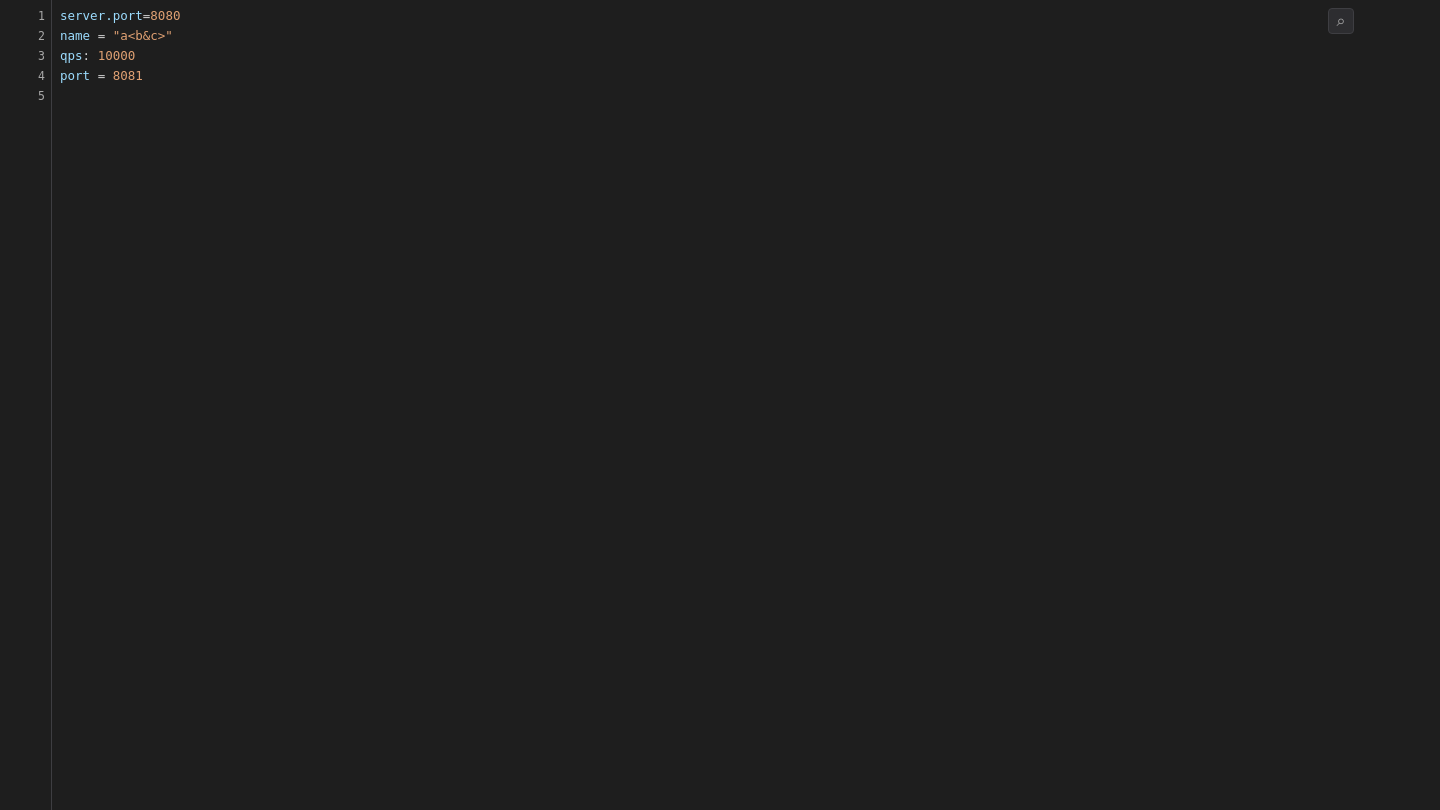
Test case: 浏览态收起查找条把焦点还给正文区（波38 R62） › 零命中时点 ✕ 也一样归还：搜不到更要把键盘留在正文里继续翻
The width and height of the screenshot is (1440, 810).
Press f
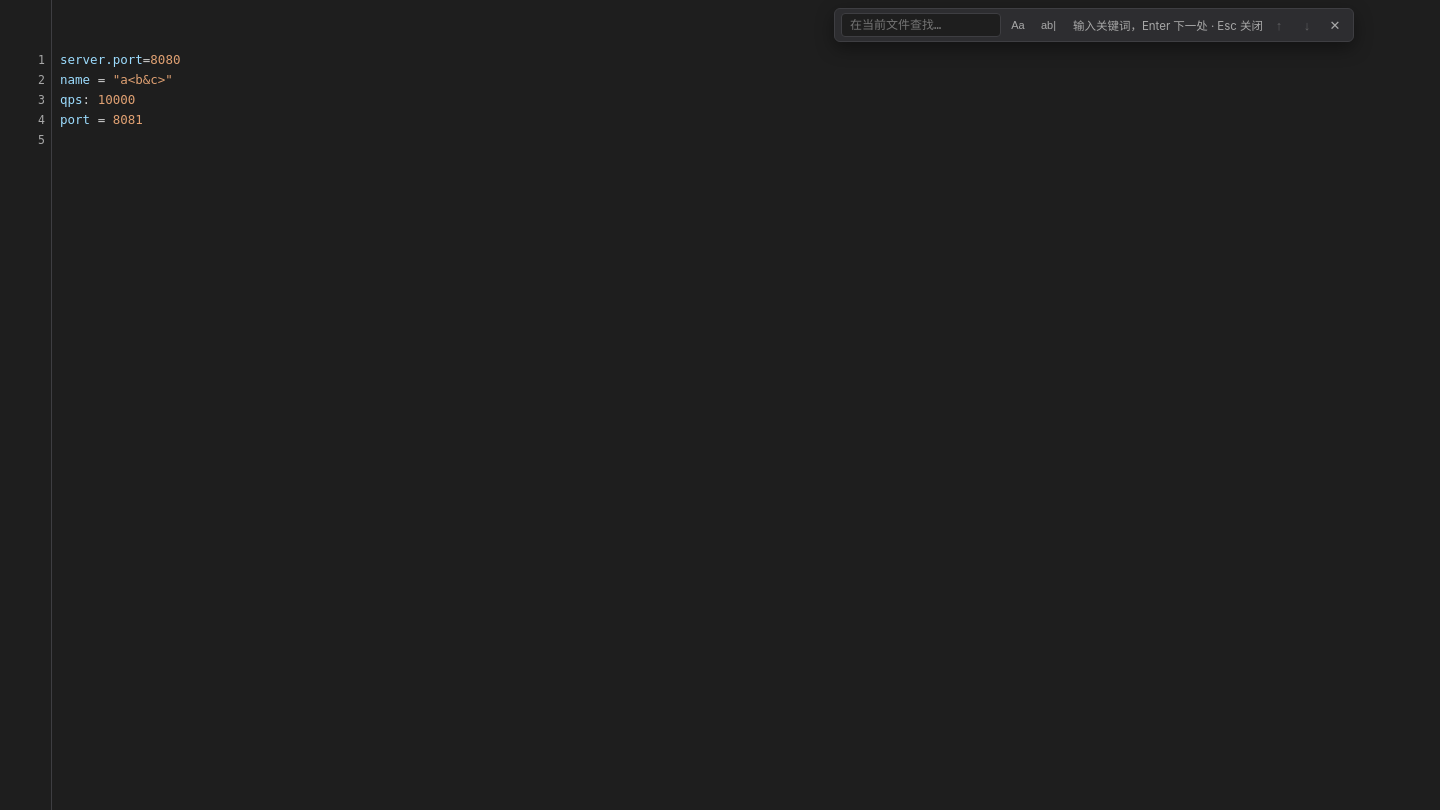
Type "zzz-bufu" into the field with class "code-find-input".
click(921, 25); type("zzz-bufu")  # box [841, 13, 1001, 37]
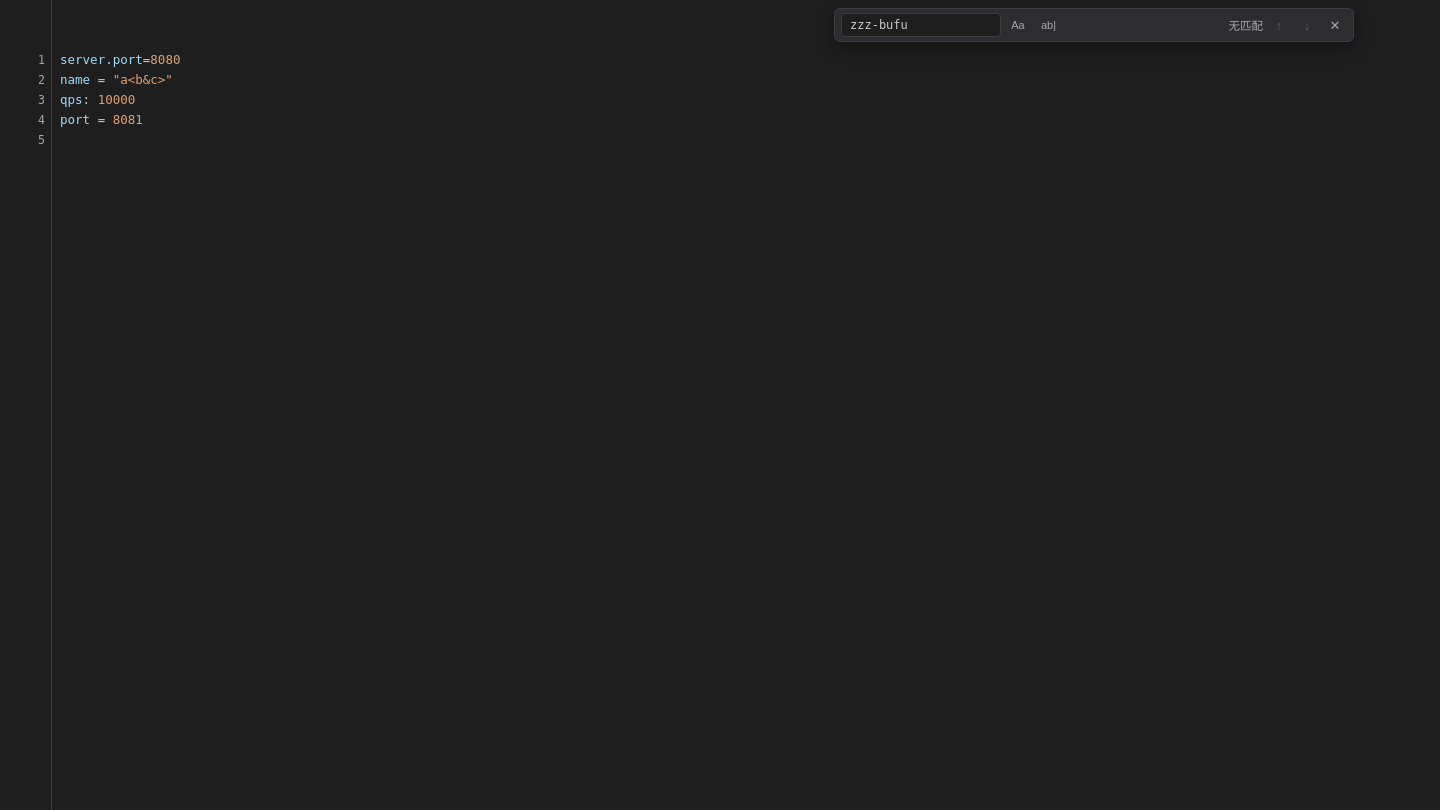
Now the text with class "code-find-count" reads "无匹配", box [1228, 19, 1263, 33]
Press Escape in the field with class "code-find-input", box [841, 13, 1001, 37]
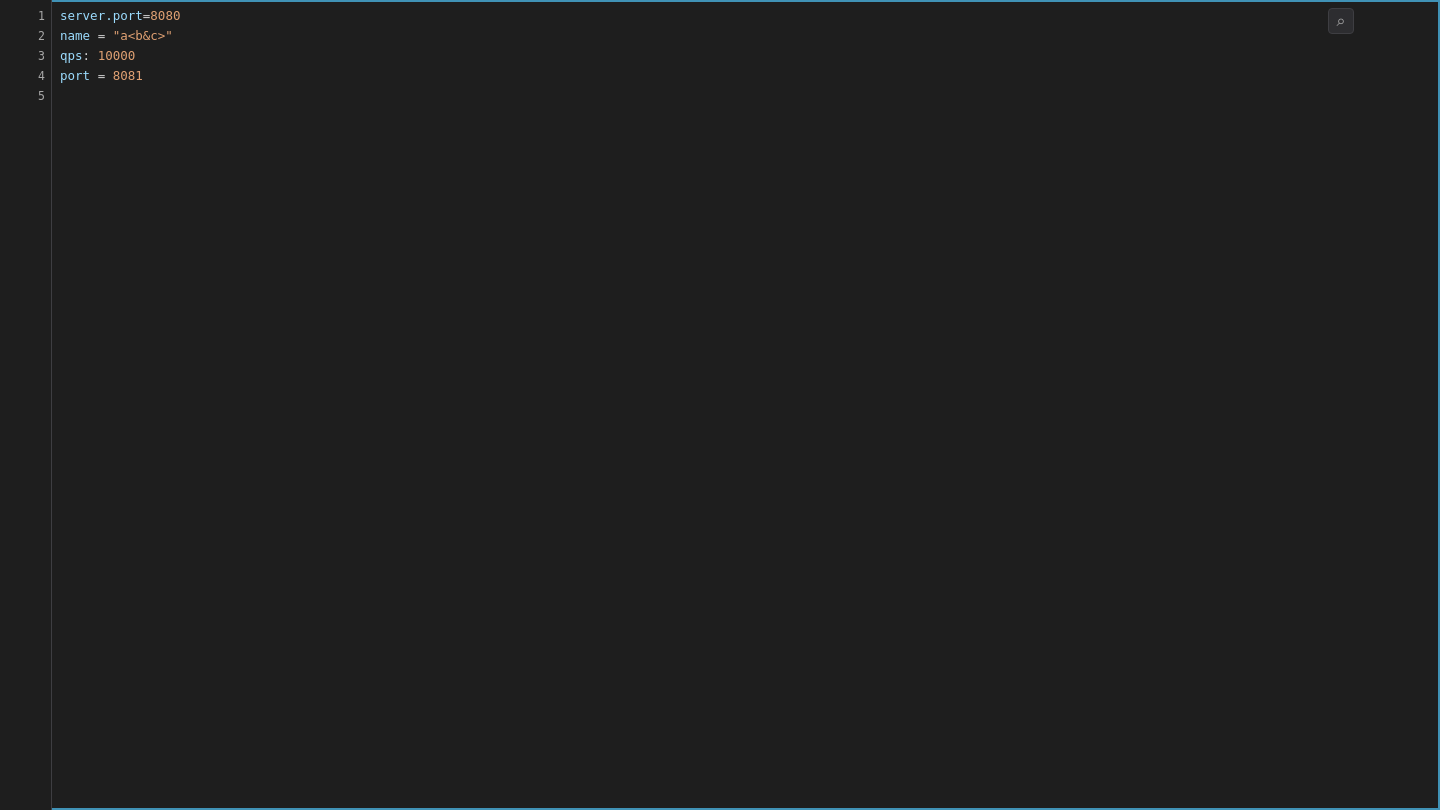
Now the field with class "code-find-input" is gone
